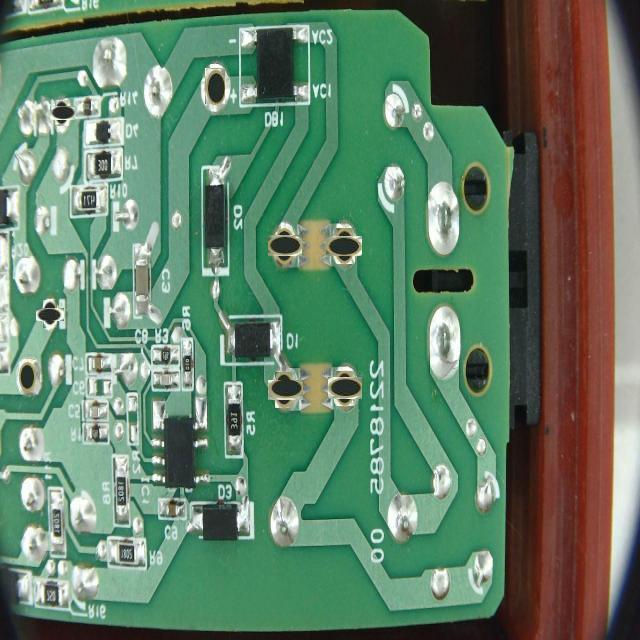damged: (330, 232, 359, 260), (331, 374, 359, 403), (270, 232, 298, 260), (272, 376, 300, 404), (205, 68, 225, 104), (20, 362, 38, 392), (40, 304, 60, 324), (52, 103, 72, 123)
